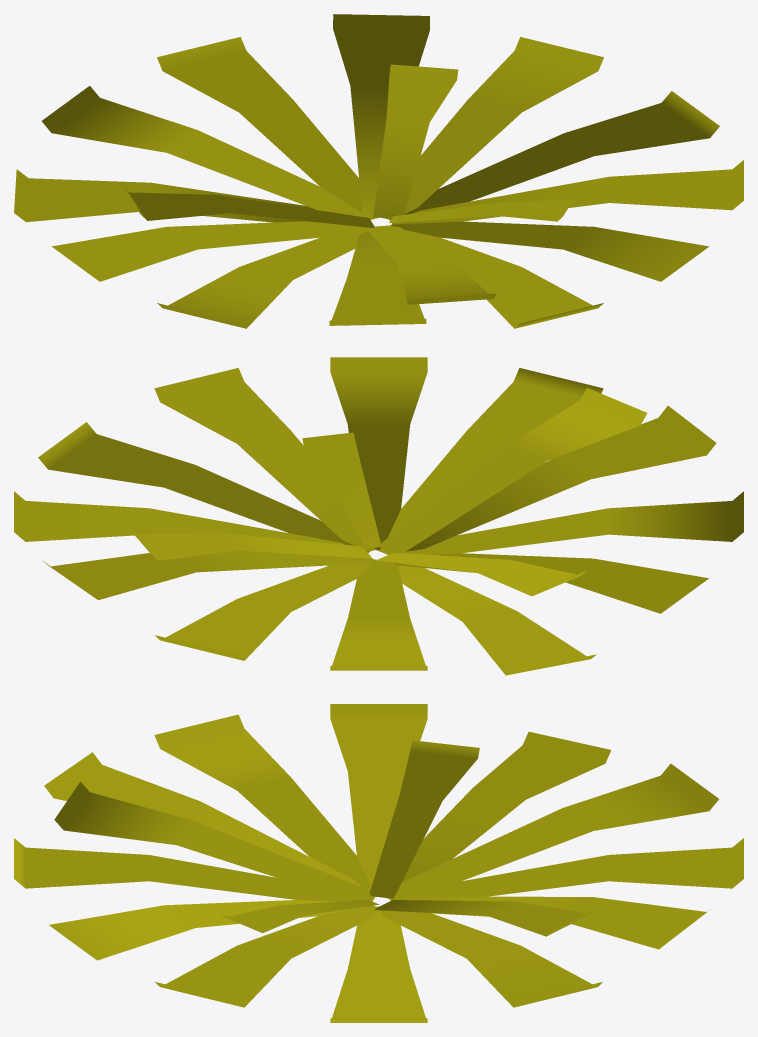
Rendered from Plant_4.obj.
3 renders of one model, top to bottom at view 1: azimuth 30°, elevation 25°; view 2: azimuth 150°, elevation 25°; view 3: azimuth 270°, elevation 25°, orthographic.
Visible parts, largest first — view 1: Plant_4; view 2: Plant_4; view 3: Plant_4.
Part boxes in pixels (x1,y1,x2,y2): Plant_4: (14,14,743,328); Plant_4: (14,357,743,675); Plant_4: (14,704,743,1022).
Bounding box in the file's own units: 234 × 22.17 × 234.
